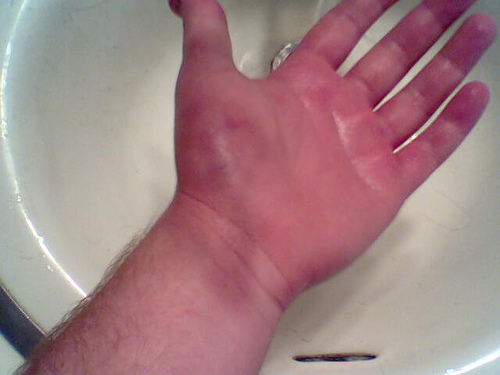palm: (184, 61, 400, 259)
